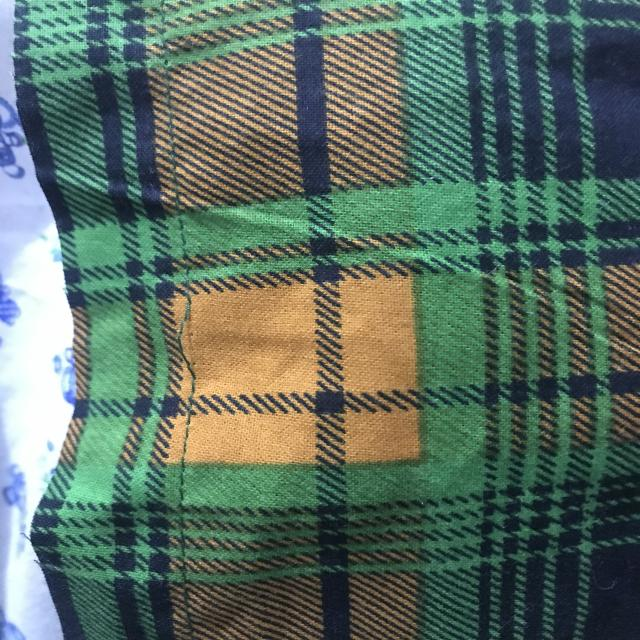good: (161, 424, 207, 536)
skip: (166, 283, 225, 398)
